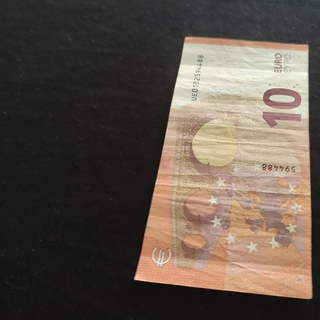10EUROBack: (133, 35, 314, 299)
